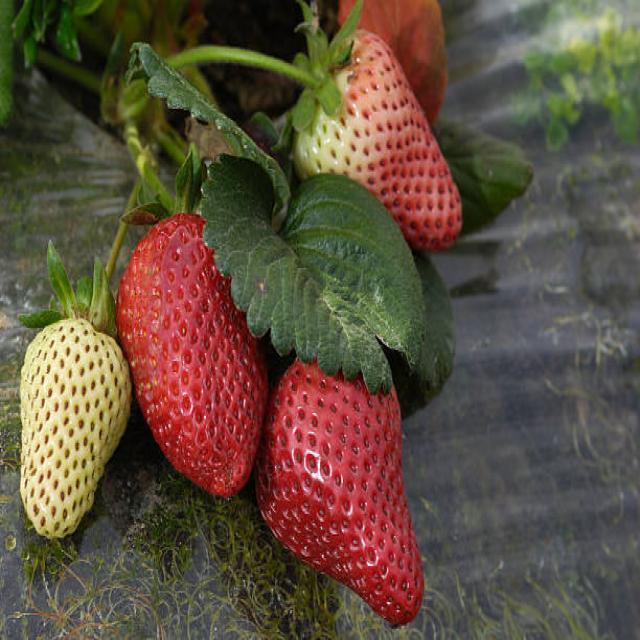Healthy Fruit: (253, 347, 424, 624), (113, 208, 270, 500), (294, 32, 463, 253), (20, 316, 135, 542)
